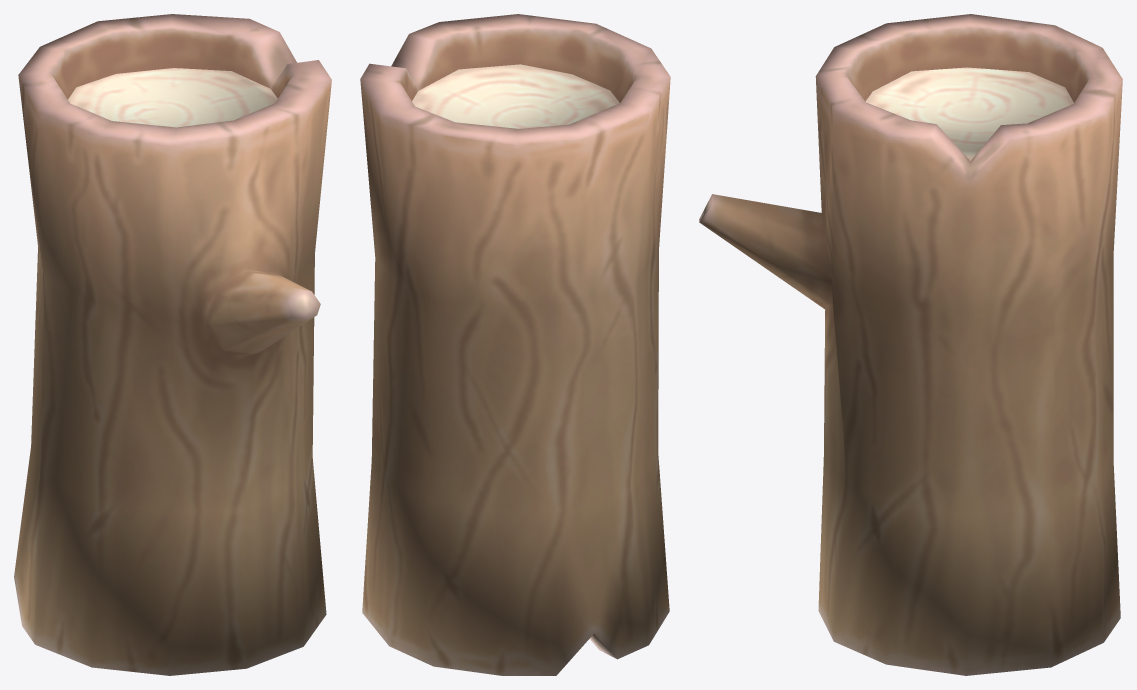
The model's file is small log.fbx.
3 renders of one model, left to right at view 1: azimuth 30°, elevation 25°; view 2: azimuth 150°, elevation 25°; view 3: azimuth 270°, elevation 25°, orthographic.
Parts seen in each view (by area): view 1: log_low; view 2: log_low; view 3: log_low.
Boxes of the visible parts, <box> form: log_low: <box>14,14,331,675</box>; log_low: <box>360,14,670,675</box>; log_low: <box>699,14,1122,675</box>.
Size of the model in its own units: 196 by 376 by 267.
